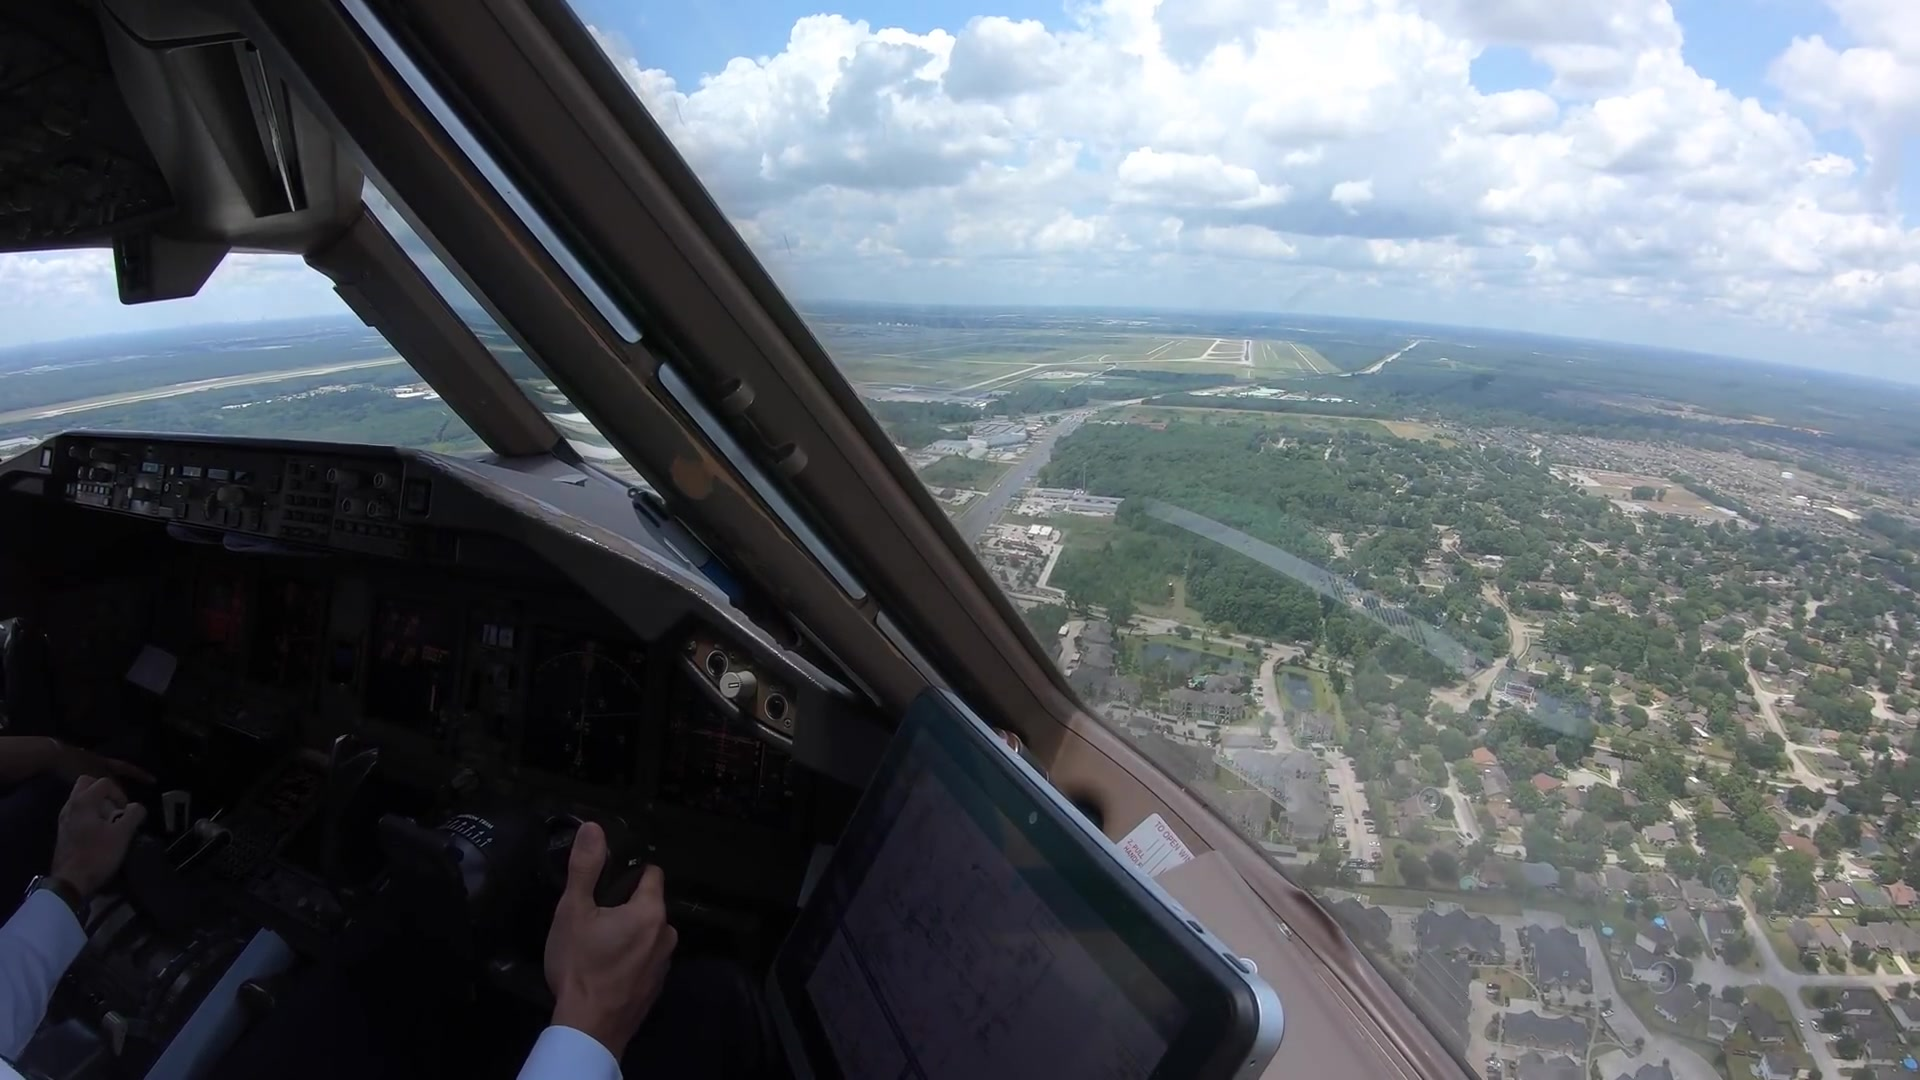runway: (1240, 339, 1253, 365)
